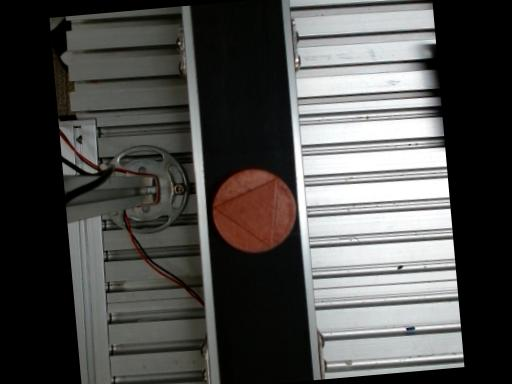Brown_Waper: (211, 169, 295, 253)
Not_Square: (213, 177, 274, 247)
